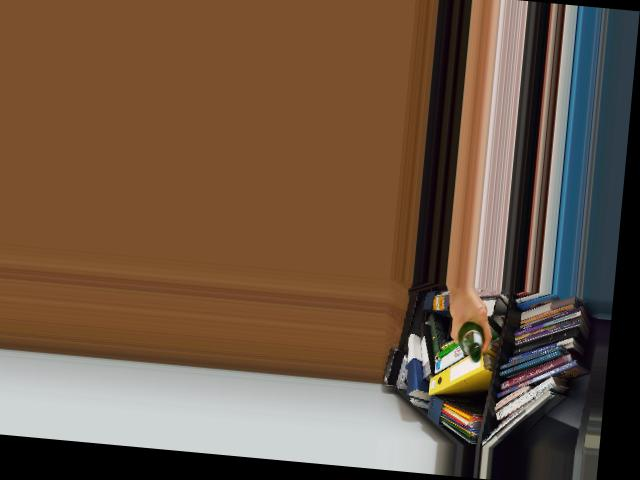beer: (455, 320, 485, 362)
